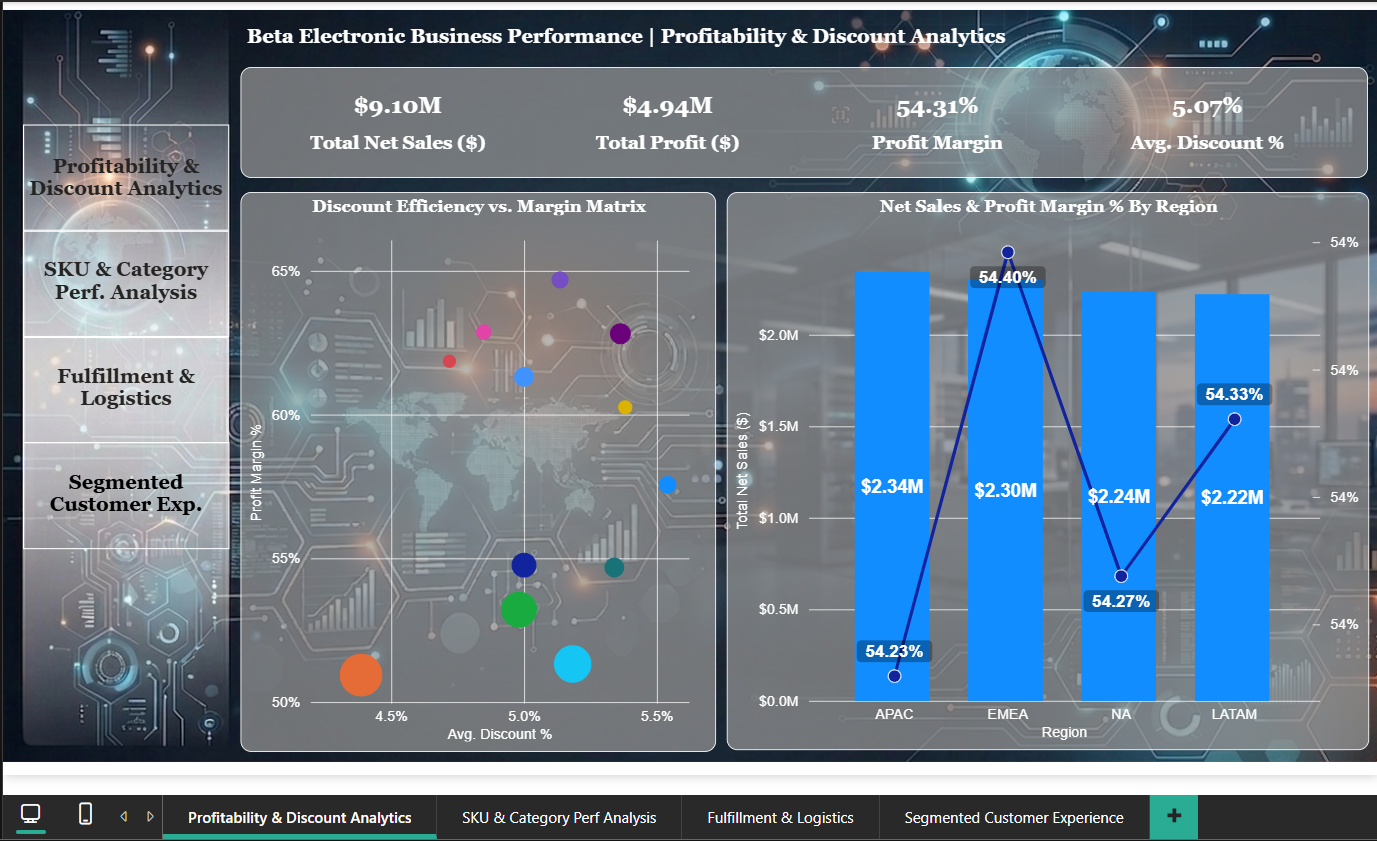

What the dashboard file says about the page in this screenshot:
{"tool":"powerbi","page":{"name":"Profitability & Discount Analytics","canvas":[1280,720],"ordinal":0},"visuals":[{"type":"cardVisual","fields":{"Data":["Beta_Electronics_Data.Total Net Sales ($)","Beta_Electronics_Data.Total Profit ($)","Beta_Electronics_Data.Profit Margin","Beta_Electronics_Data.Avg. Discount %"]},"box":[221.4,60.6,1048.9,95.2],"z":0},{"type":"textbox","box":[222.3,15.9,1049.2,35.2],"z":1000},{"type":"textbox","box":[18.6,137.3,191.7,54.4],"z":2000},{"type":"textbox","box":[18.6,233.8,191.7,54.4],"z":3000},{"type":"textbox","box":[18.6,332.7,191.7,54.4],"z":4000},{"type":"textbox","box":[18.6,431.7,191.7,54.4],"z":5000},{"type":"actionButton","box":[18.2,409.7,192.1,99.7],"z":6000},{"type":"scatterChart","title":"Discount Efficiency vs. Margin Matrix","fields":{"X":["Beta_Electronics_Data.Avg. Discount %"],"Y":["Beta_Electronics_Data.Profit Margin"],"Size":["Beta_Electronics_Data.Total Net Sales ($)"],"Category":["Beta_Electronics_Data.Product Name"]},"box":[221.4,164.5,441.6,533.1],"z":7000},{"type":"lineClusteredColumnComboChart","title":"Net Sales & Profit Margin % By Region","fields":{"Category":["Beta_Electronics_Data.Region"],"Y":["Beta_Electronics_Data.Total Net Sales ($)"],"Y2":["Beta_Electronics_Data.Profit Margin"]},"box":[673.5,163.1,597.5,533.1],"z":8000},{"type":"actionButton","box":[18.5,311.4,191.5,98.9],"z":9000},{"type":"actionButton","box":[18.6,212.8,191.9,98.8],"z":10000},{"type":"actionButton","box":[18.6,114,191.9,98.8],"z":11000}]}

Visuals, with their boxes on the page's 1280x720 design canvas (x1, y1, x2, y2). These are canvas units, not pixel positions in the 1377x841 screenshot, which may show the page scaled, cropped or inside an application window:
cardVisual - Beta_Electronics_Data.Total Net Sales ($) x Beta_Electronics_Data.Total Profit ($): [x1=221, y1=61, x2=1270, y2=156]
textbox: [x1=222, y1=16, x2=1272, y2=51]
textbox: [x1=19, y1=137, x2=210, y2=192]
textbox: [x1=19, y1=234, x2=210, y2=288]
textbox: [x1=19, y1=333, x2=210, y2=387]
textbox: [x1=19, y1=432, x2=210, y2=486]
actionButton: [x1=18, y1=410, x2=210, y2=509]
"Discount Efficiency vs. Margin Matrix" scatterChart: [x1=221, y1=164, x2=663, y2=698]
"Net Sales & Profit Margin % By Region" lineClusteredColumnComboChart: [x1=674, y1=163, x2=1271, y2=696]
actionButton: [x1=18, y1=311, x2=210, y2=410]
actionButton: [x1=19, y1=213, x2=210, y2=312]
actionButton: [x1=19, y1=114, x2=210, y2=213]
